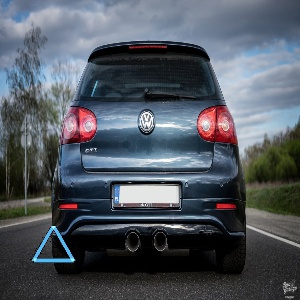triangle: (29, 221, 80, 266)
